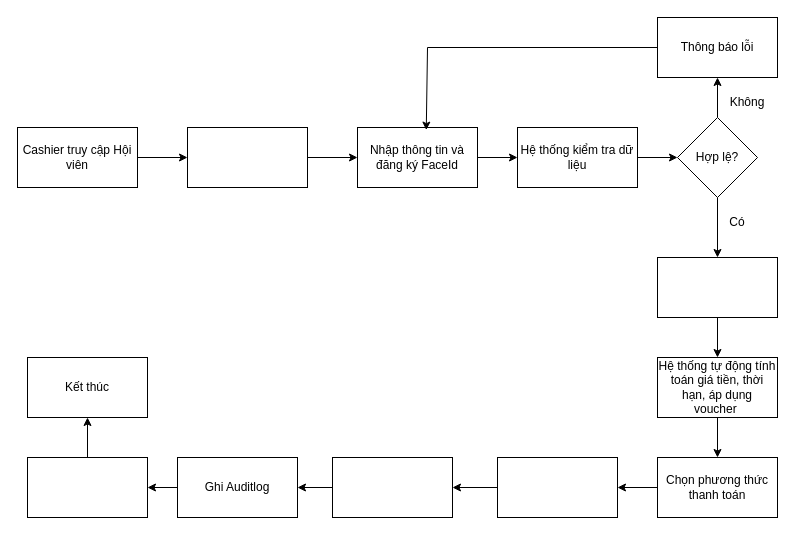
Image size: 795x535. Some labels were removed from this diagram. The centre of each missing label's shape, as x and y in pixels:
"Cashier lựa chọn gói tập" goes at point 717,287.
"Lưu hội viên, tài khoản, FaceID, gói tập và hóa đơn" goes at point 392,487.
"Thông báo thành công" goes at point 87,487.
"Tạo hội viên" goes at point 247,157.
"Xác nhận thanh toán" goes at point 557,487.
